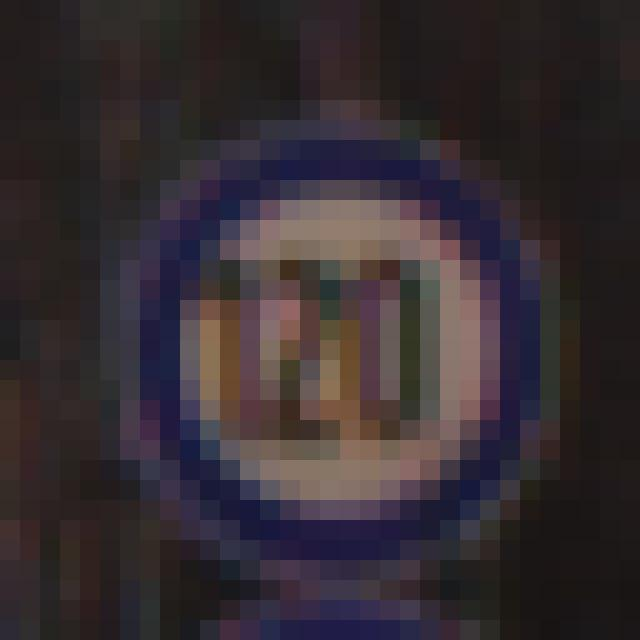SPEED LIMIT 120: (97, 125, 569, 576)
